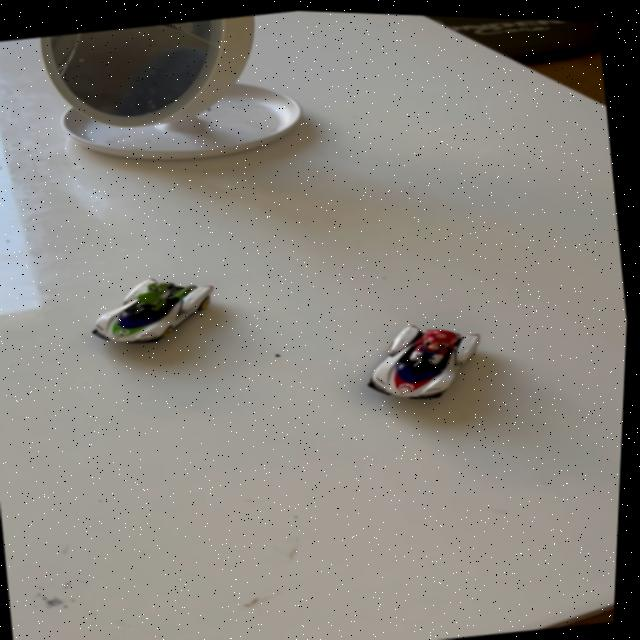mario: (343, 300, 508, 420)
yoshi: (76, 260, 240, 360)
